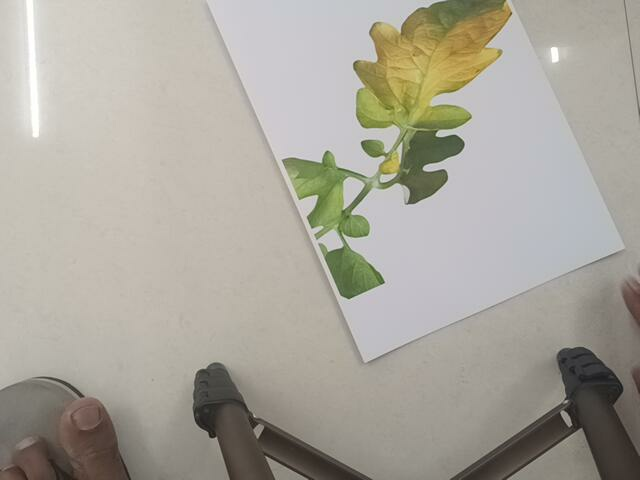Tomamto_Yellow_Disease: (277, 3, 517, 290)
